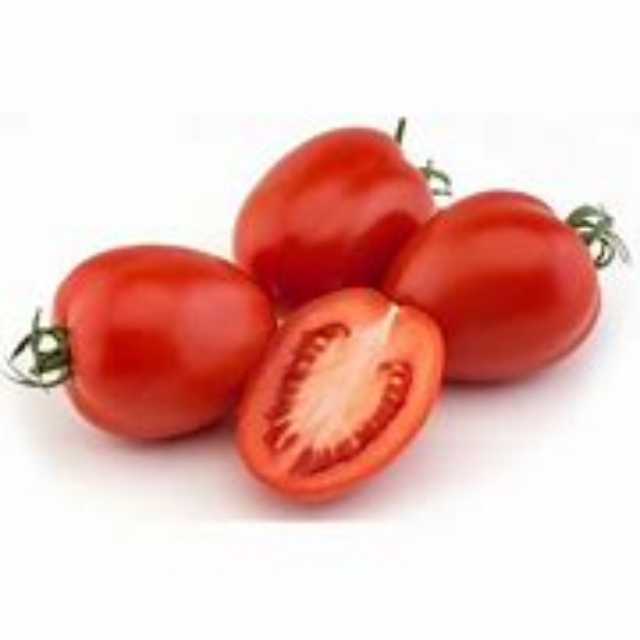tomato: (36, 242, 290, 438), (235, 288, 451, 501), (387, 180, 598, 386), (230, 115, 430, 317)
